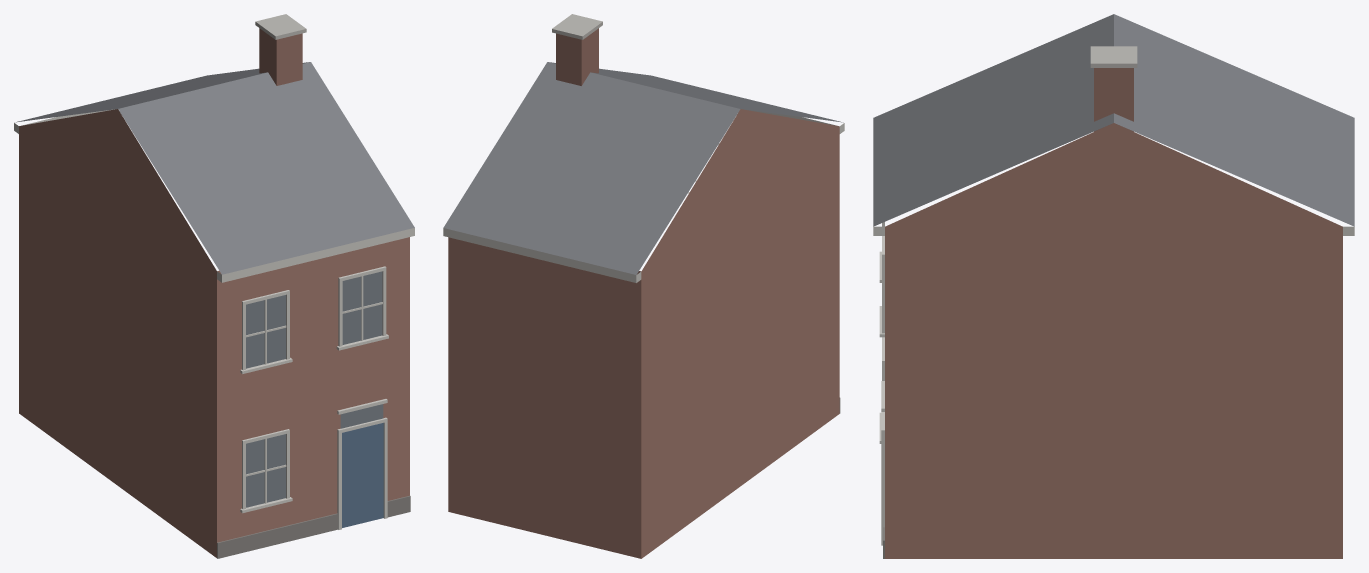
Rendered from terrace_45.glb.
The picture shows the model from 3 angles, left to right: view 1: azimuth 30°, elevation 25°; view 2: azimuth 150°, elevation 25°; view 3: azimuth 270°, elevation 25°; orthographic projection. The views are drawn at different scales.
Visible parts, largest first — view 1: Part0; view 2: Part0; view 3: Part0.
Boxes of the visible parts, <box> form: Part0: <box>14,14,414,558</box>; Part0: <box>443,14,844,558</box>; Part0: <box>873,14,1354,558</box>.
Bounding box in the file's own units: 4.5 × 9.38 × 8.4.
